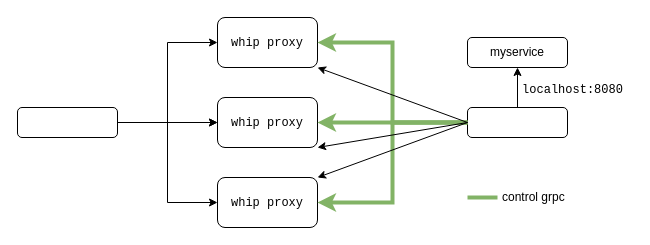
This 650x245 diagram has some shape labels left out. The shapes that lost their labels are listed below. From the top down, each one's box as (x1, y1, x2, y2) in pixels, then its label:
(16, 106, 118, 138): myclient
(466, 106, 568, 138): whip client
